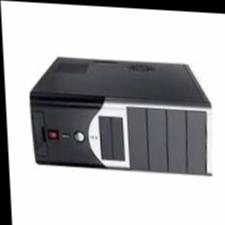pc: (23, 49, 215, 186)
